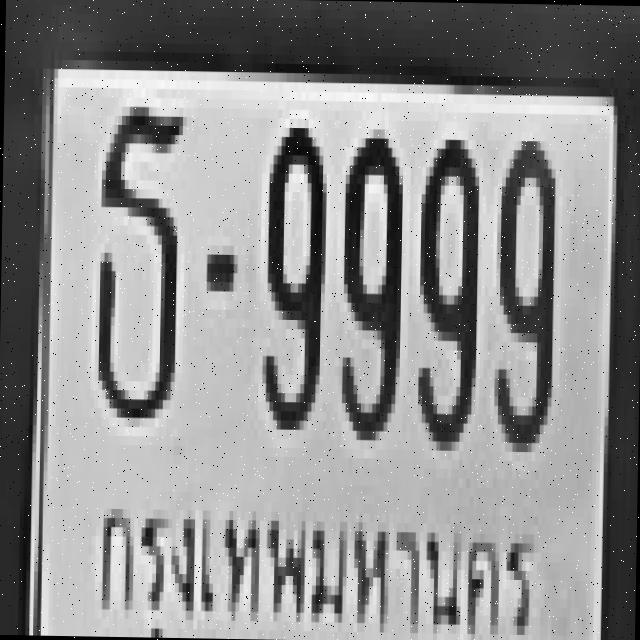33ThorThong: (90, 92, 182, 414)
9: (258, 117, 324, 420), (489, 131, 552, 443), (414, 130, 476, 442), (338, 120, 400, 432)
Bangkok: (85, 484, 537, 640)
